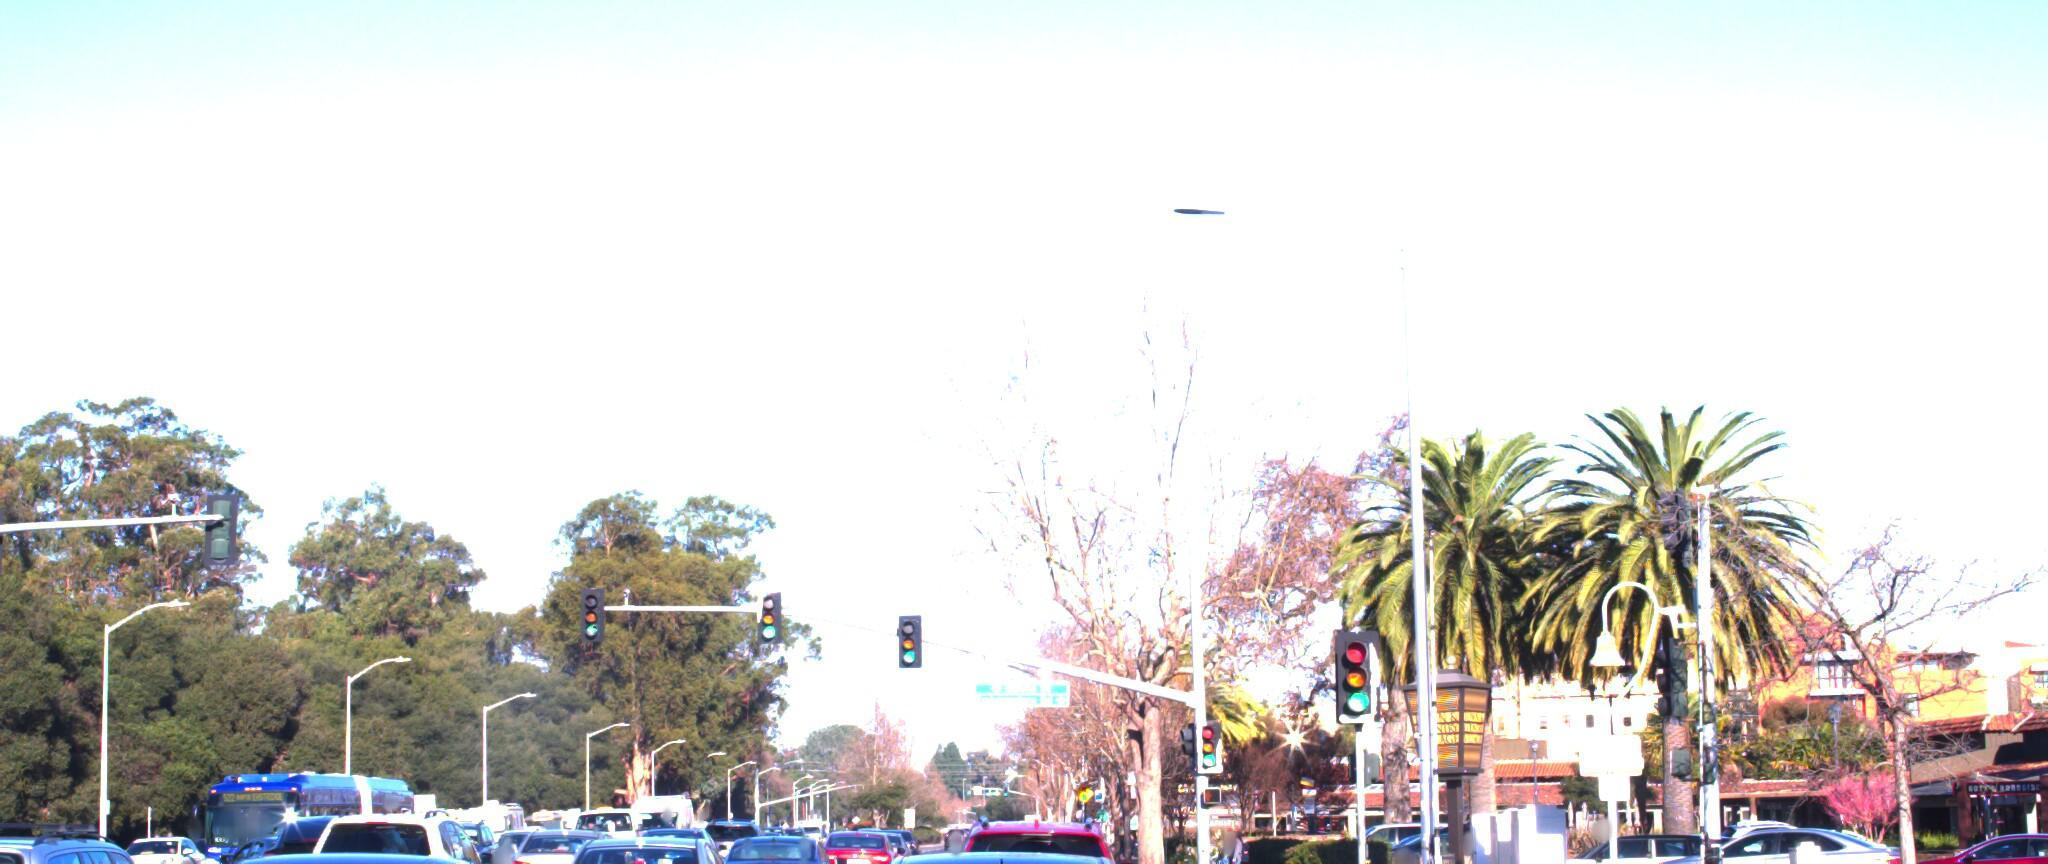bicycle: (1203, 800, 1270, 864)
car: (0, 534, 137, 864), (1620, 801, 1913, 864), (300, 788, 509, 864), (124, 827, 554, 864), (810, 824, 1189, 864), (0, 803, 247, 864), (929, 794, 1121, 864), (552, 813, 761, 864), (1865, 809, 2048, 864), (490, 791, 620, 864), (701, 797, 835, 864), (812, 803, 901, 864)
